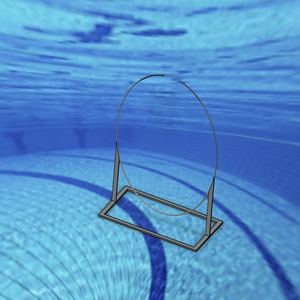circle: (99, 72, 224, 252)
